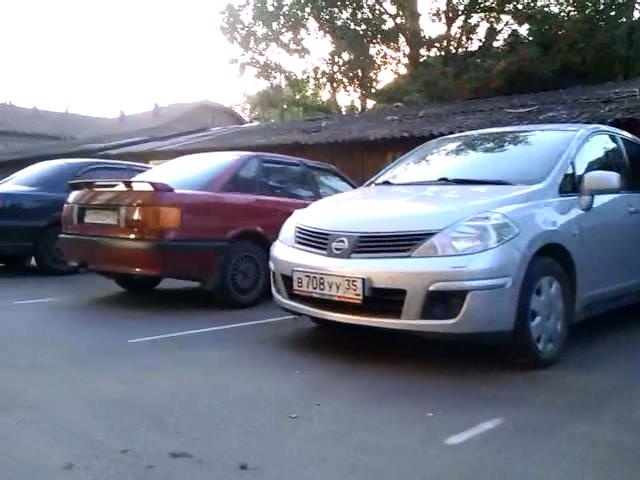car license plate: (290, 268, 364, 304), (82, 207, 121, 228)
